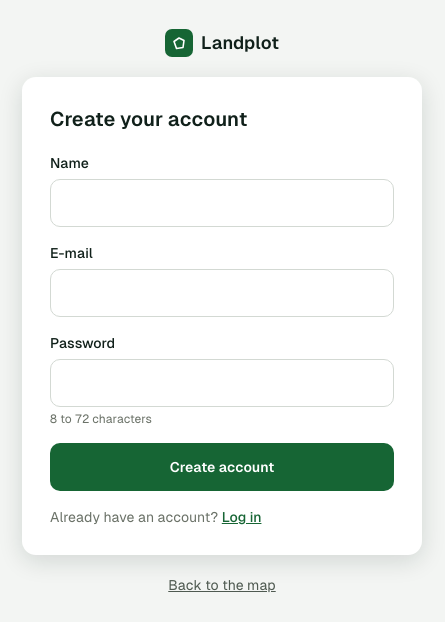
Test: RegisterPage › maps backend field violations (400) to the fields
# Pass the client-side check so the request is actually sent.
Type "Ana" into the field labelled "Name" at x=222, y=203, box [50,179,394,227]
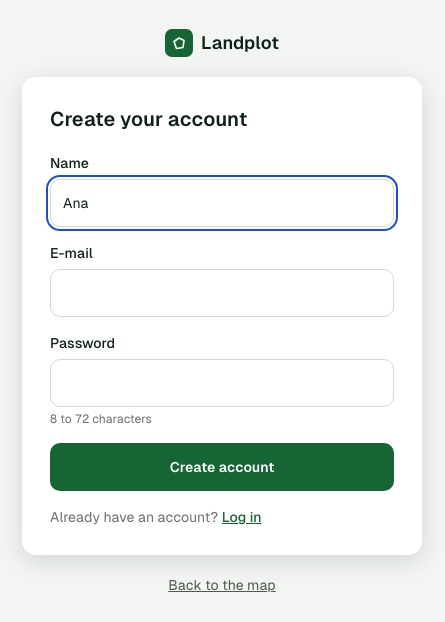
Type "ana@example.com" into the field labelled "E-mail" at x=222, y=293, box [50,269,394,317]
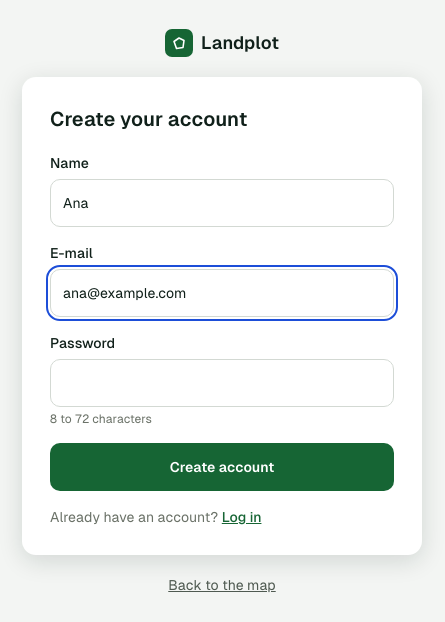
Type "password-ok-123" into the password field labelled "Password" at x=222, y=383, box [50,359,394,407]
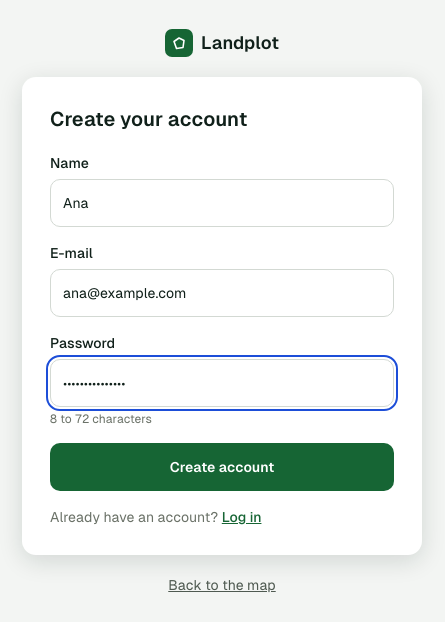
Click the button "Create account" at x=222, y=467, box [50,443,394,491]
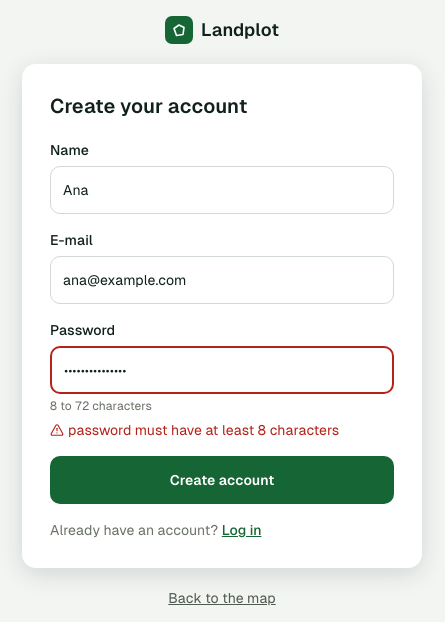
Expected: the text "password must have at least 8 characters" is shown, [50,422,339,438]
